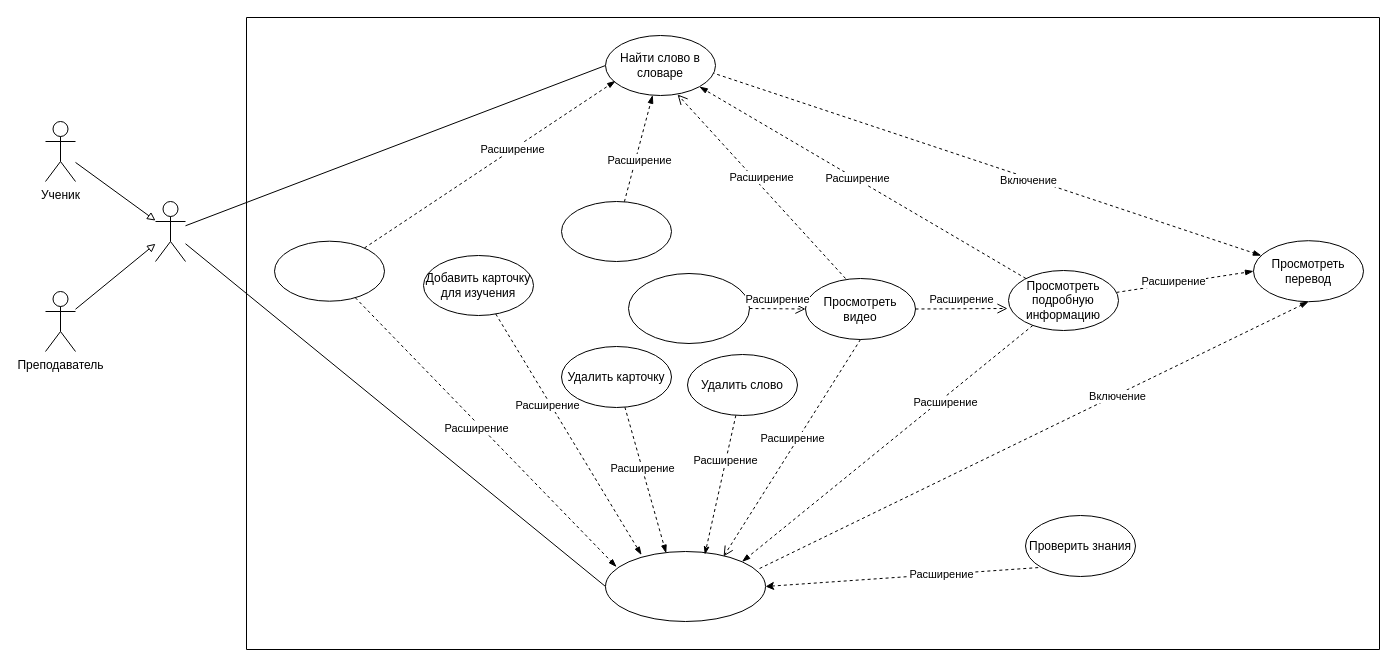
Image size: 1397x667. Some labels were removed from this diagram. Each missing label, with the centre of its shape:
"Добавить в словарь пользователя" goes at point (616, 231).
"Перейти по ссылке на оригинал видео" goes at point (689, 308).
"Пользователь" goes at point (170, 231).
"Прослушать озвучку произношения" goes at point (329, 270).
"Просмотреть список слов в словаре пользователя" goes at point (685, 586).
